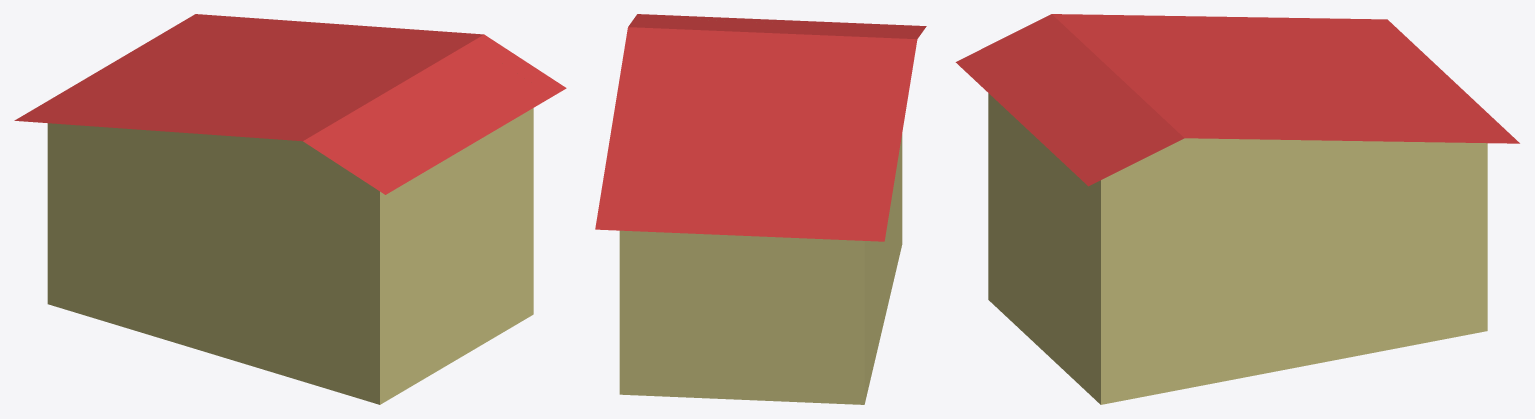
The picture shows the model from 3 angles, left to right: view 1: azimuth 30°, elevation 25°; view 2: azimuth 150°, elevation 25°; view 3: azimuth 270°, elevation 25°; orthographic projection. The views are drawn at different scales.
Size of the model in its own units: 14.8 by 17.08 by 8.75.
